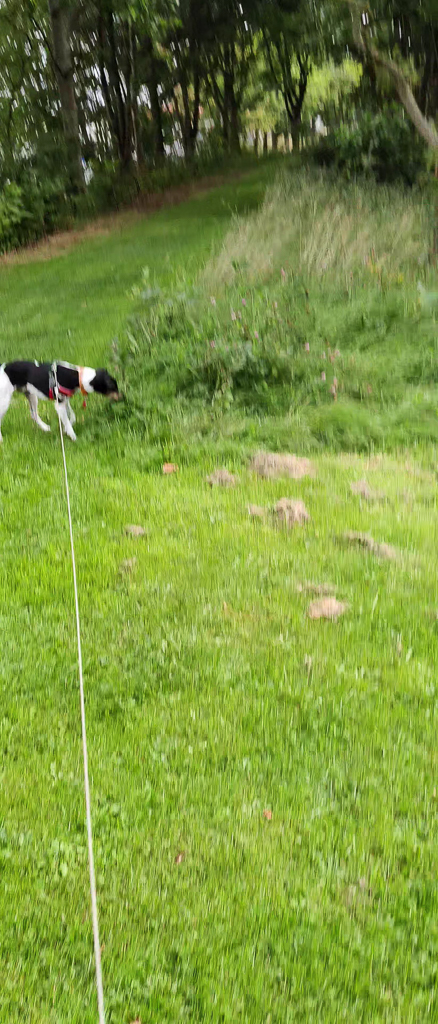Dog: (0, 346, 128, 449)
